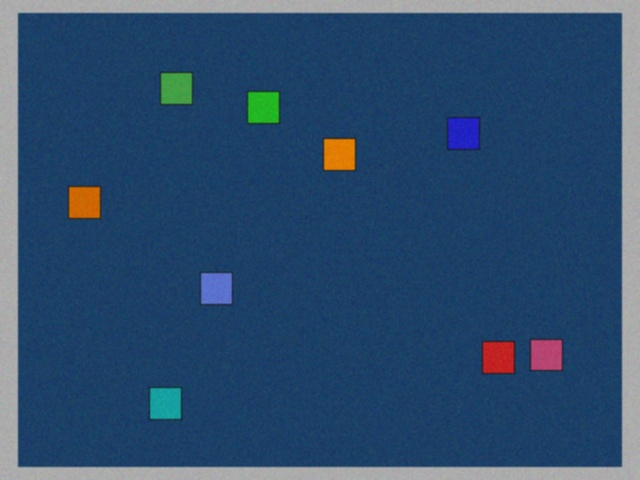block: (519, 334, 563, 371), (149, 380, 189, 420), (161, 72, 200, 111), (474, 336, 514, 373), (69, 186, 113, 219), (441, 118, 480, 154), (248, 92, 282, 130), (201, 271, 238, 305), (324, 139, 356, 174)
